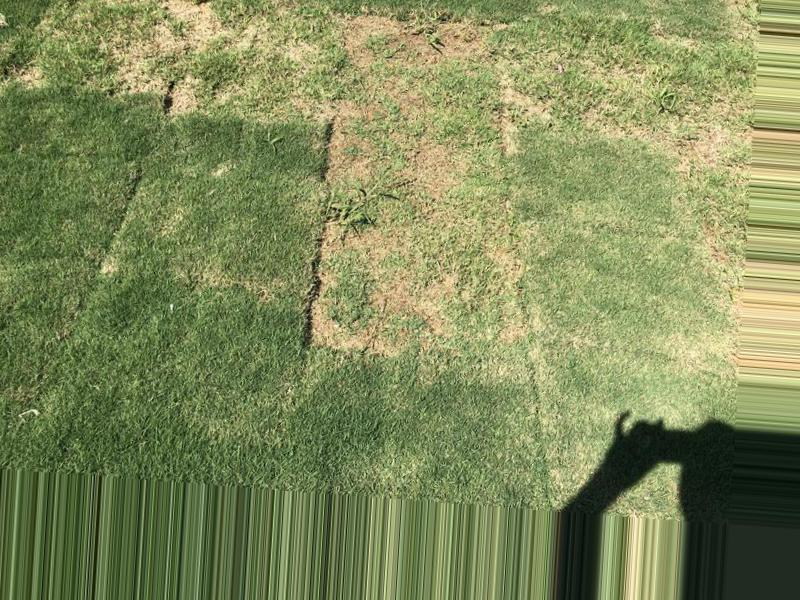patch: (346, 122, 458, 199), (344, 16, 491, 72), (316, 283, 384, 348), (164, 2, 233, 59)
